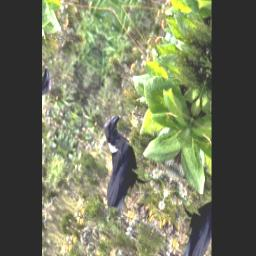Crow: (81, 107, 162, 224)
